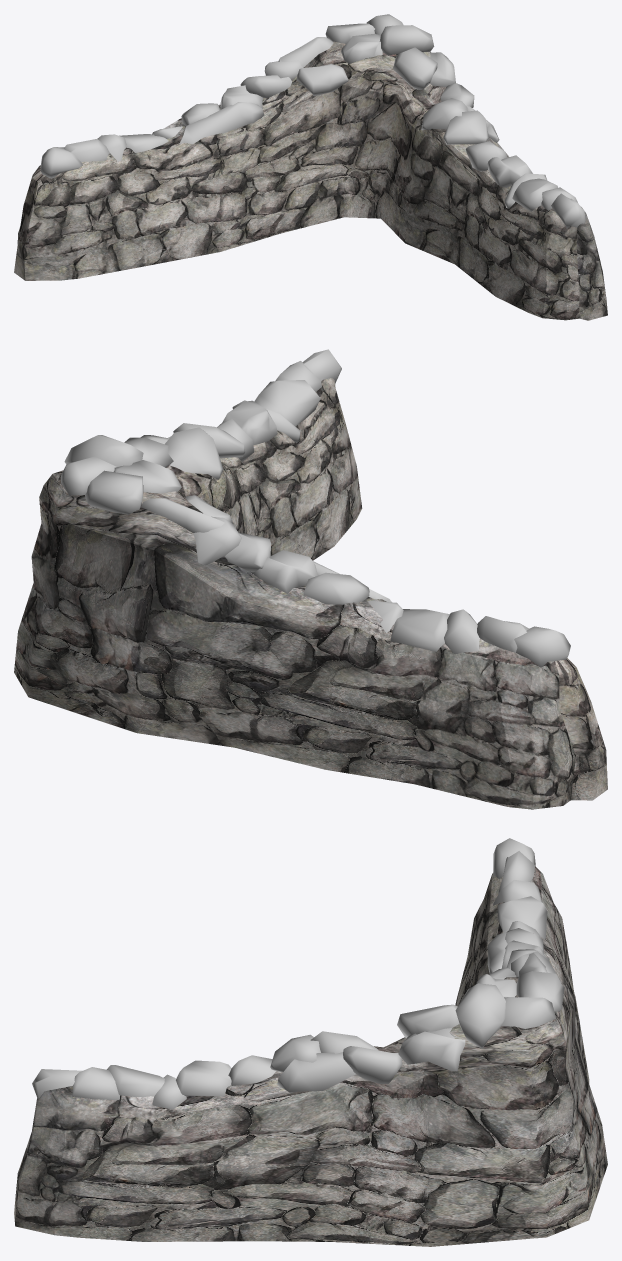
Rendered from Wall_3.fbx.
3 views of the same model, one above another, from view 1: azimuth 30°, elevation 25°; view 2: azimuth 150°, elevation 25°; view 3: azimuth 270°, elevation 25° (orthographic). The views are drawn at different scales.
Parts seen in each view (by area): view 1: Wall, Rock; view 2: Wall, Rock; view 3: Wall, Rock.
Boxes of the visible parts, x1,y1,x2,y2 form: Wall: (14, 41, 607, 320); Rock: (40, 14, 585, 228); Wall: (14, 378, 607, 809); Rock: (61, 349, 570, 667); Wall: (14, 866, 607, 1246); Rock: (32, 838, 564, 1109).
Size of the model in its own units: 802 by 293 by 725.
